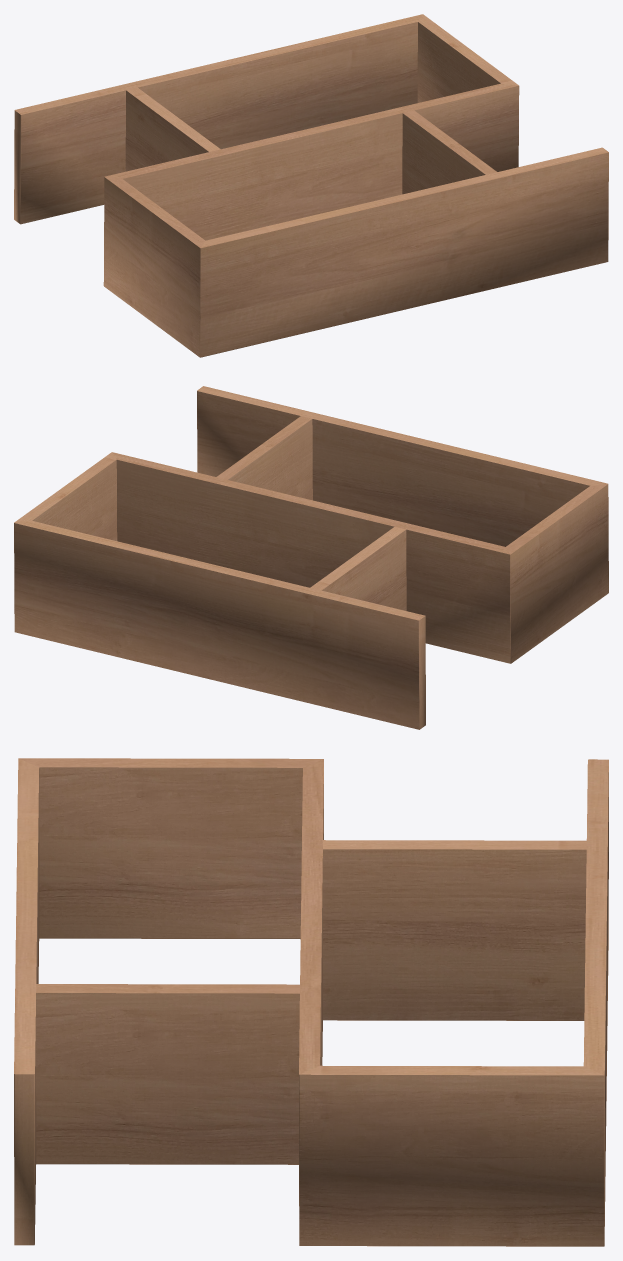
File: hanging-shelf-opt.glb
3 renders of one model, top to bottom at view 1: azimuth 30°, elevation 25°; view 2: azimuth 150°, elevation 25°; view 3: azimuth 270°, elevation 25°, orthographic. The views are drawn at different scales.
Visible parts, largest first — view 1: Hanging shelf; view 2: Hanging shelf; view 3: Hanging shelf.
Part boxes in pixels (<box>): Hanging shelf: <box>14,14,608,357</box>; Hanging shelf: <box>14,386,608,729</box>; Hanging shelf: <box>14,758,608,1246</box>.
Bounding box in the file's own units: 0.7039 × 0.1841 × 0.5639.
Materials: 1 (1 with a texture image).
